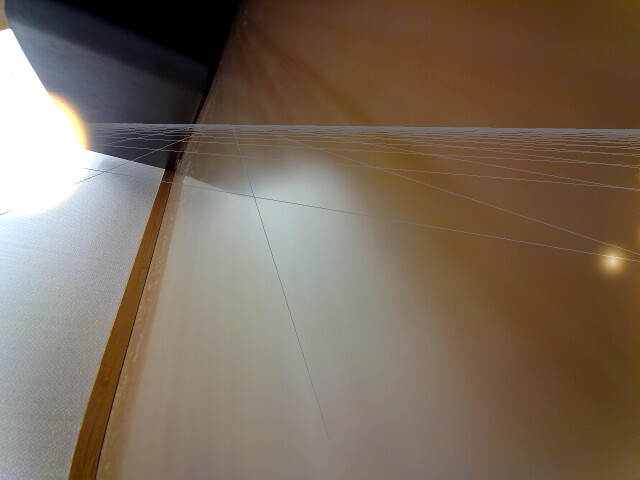fire: (4, 91, 87, 220), (600, 249, 622, 274)
